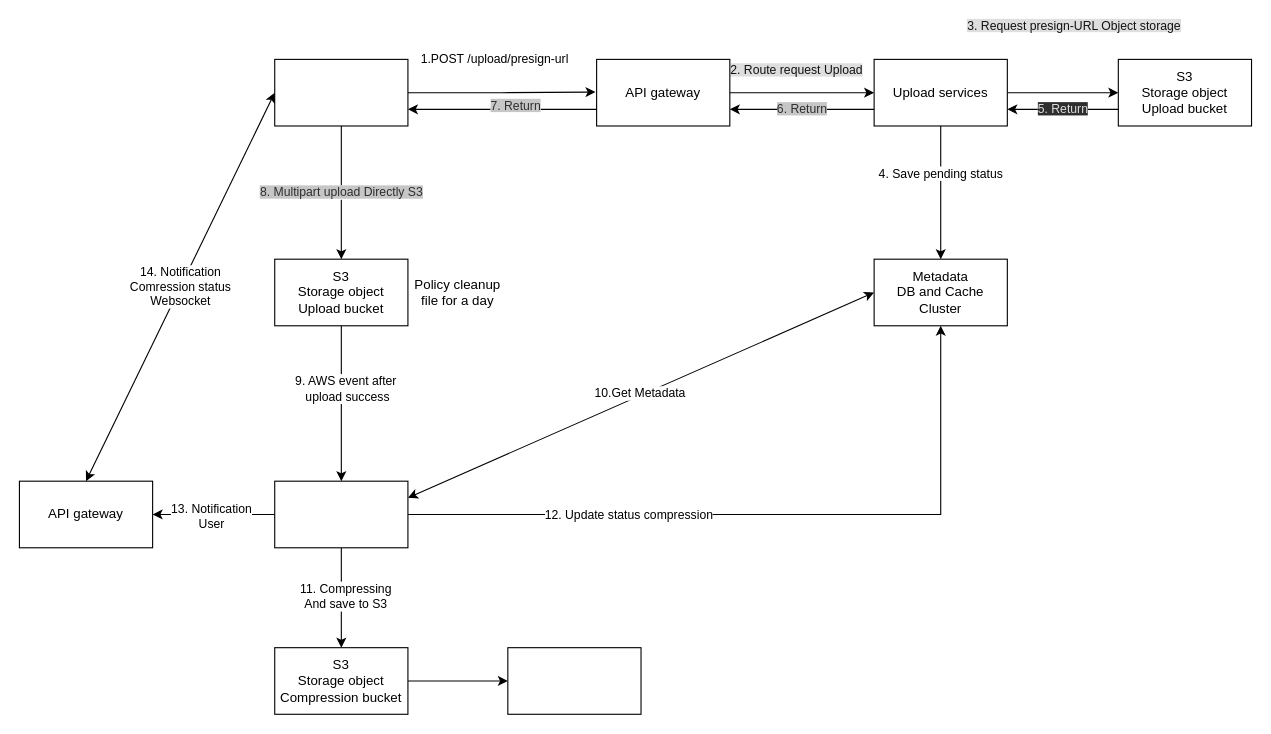
Image size: 1271x734. Some labels were removed from this diagram. Each missing label, with the centre of its shape:
Client: the point at 341,92
Compression Step_function and workers: the point at 341,514
Option CloudFront CDN: the point at 574,680
